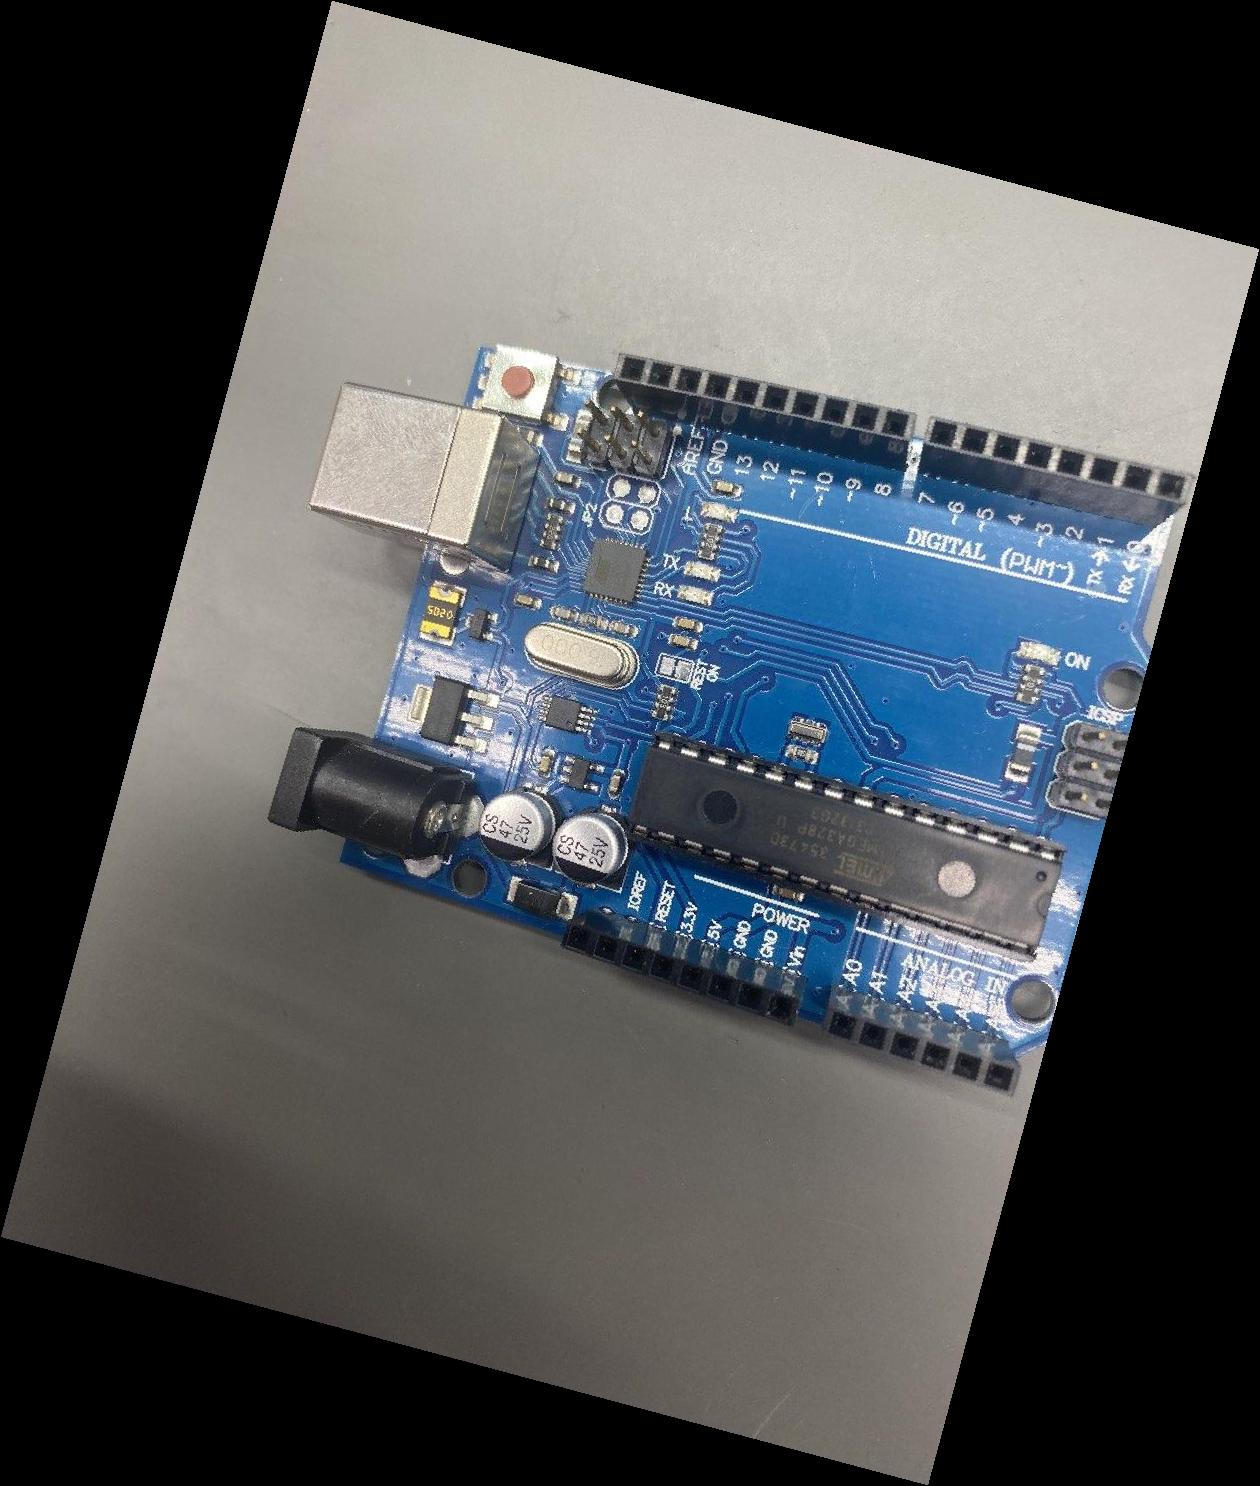ATmega328 chip: (625, 729, 1069, 964)
Arduino board: (267, 341, 1194, 1099)
USB: (306, 379, 542, 574)
capacitor: (479, 784, 565, 869), (551, 805, 635, 892)
pins: (612, 352, 917, 469), (916, 416, 1192, 529), (561, 906, 807, 1027), (821, 986, 1021, 1099)
resistor: (1015, 664, 1045, 705), (539, 514, 566, 552), (697, 522, 725, 561), (651, 685, 677, 721)
